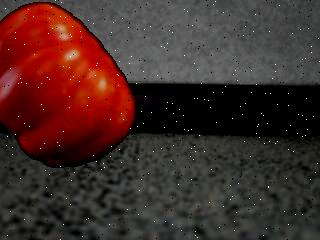Pumpkin: (0, 2, 138, 170)
